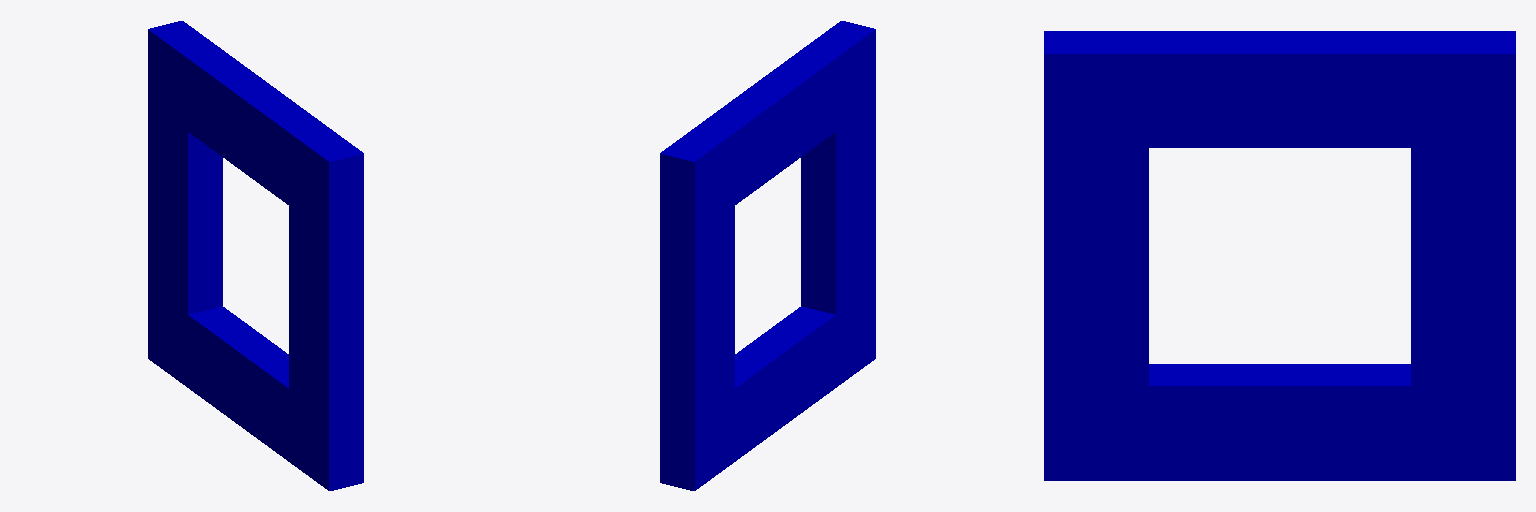
URDF robot description (cube):
<?xml version="1.0"?>
<robot name="cube">

<link name="base_link">

    <inertial>
      <mass value="0.1"/>
      <origin rpy="0 0 0" xyz="0 0 0"/>
      <inertia ixx="1e-3" ixy="0.0" ixz="0.0" iyy="1e-3" iyz="0.0" izz="1e-3"/>
    </inertial>

</link>

<link name="link_1">
    <contact>
        <lateral_friction value="4.0"/>
    </contact>

    <visual>
      <origin rpy="0 0 0" xyz="0 -0.09 0"/>
      <geometry>
        <box size="0.02 0.04 0.18"/>
      </geometry>
      <material name="blue">
        <color rgba="0 0 .8 1"/>
      </material>
    </visual>

    <collision>
      <origin rpy="0 0 0" xyz="0 -0.09 0"/>
      <geometry>
        <box size="0.02 0.04 0.18"/>
      </geometry>
    </collision>

    <inertial>
      <mass value="0.01"/>
      <origin rpy="0 0 0" xyz="0 0 0"/>
      <inertia ixx="1e-3" ixy="0.0" ixz="0.0" iyy="1e-3" iyz="0.0" izz="1e-3"/>
    </inertial>

</link>

<link name="link_2">
    <contact>
        <lateral_friction value="4.0"/>
    </contact>

    <visual>
      <origin rpy="0 0 0" xyz="0 -0.09 0"/>
      <geometry>
        <box size="0.02 0.18 0.04"/>
      </geometry>
      <material name="blue">
        <color rgba="0 0 .8 1"/>
      </material>
    </visual>

    <collision>
      <origin rpy="0 0 0" xyz="0 -0.09 0"/>
      <geometry>
        <box size="0.02 0.18 0.04"/>
      </geometry>
    </collision>

    <inertial>
      <mass value="0.01"/>
      <origin rpy="0 0 0" xyz="0 0 0"/>
      <inertia ixx="1e-3" ixy="0.0" ixz="0.0" iyy="1e-3" iyz="0.0" izz="1e-3"/>
    </inertial>

</link>

<link name="link_3">
    <contact>
        <lateral_friction value="4.0"/>
    </contact>

    <visual>
      <origin rpy="0 0 0" xyz="0 -0.09 0"/>
      <geometry>
        <box size="0.02 0.04 0.18"/>
      </geometry>
      <material name="blue">
        <color rgba="0 0 .8 1"/>
      </material>
    </visual>

    <collision>
      <origin rpy="0 0 0" xyz="0 -0.09 0"/>
      <geometry>
        <box size="0.02 0.04 0.18"/>
      </geometry>
    </collision>

    <inertial>
      <mass value="0.01"/>
      <origin rpy="0 0 0" xyz="0 0 0"/>
      <inertia ixx="1e-3" ixy="0.0" ixz="0.0" iyy="1e-3" iyz="0.0" izz="1e-3"/>
    </inertial>

</link>

<link name="link_4">
    <contact>
        <lateral_friction value="4.0"/>
    </contact>

    <visual>
      <origin rpy="0 0 0" xyz="0 -0.09 0"/>
      <geometry>
        <box size="0.02 0.18 0.04"/>
      </geometry>
      <material name="blue">
        <color rgba="0 0 .8 1"/>
      </material>
    </visual>

    <collision>
      <origin rpy="0 0 0" xyz="0 -0.09 0"/>
      <geometry>
        <box size="0.02 0.18 0.04"/>
      </geometry>
    </collision>

    <inertial>
      <mass value="0.01"/>
      <origin rpy="0 0 0" xyz="0 0 0"/>
      <inertia ixx="1e-3" ixy="0.0" ixz="0.0" iyy="1e-3" iyz="0.0" izz="1e-3"/>
    </inertial>

</link>

  <joint name="joint_Center" type="fixed">
    <origin xyz="0 -0.07 0.0" rpy="0.0 0.0 0.0"/>
    <parent link="base_link"/>
    <child link="link_1"/>
    <axis xyz="0.0 0.0 0.0"/>
    <limit lower="0.0" upper="0.0" effort="0.0" velocity="0.0"/>
  </joint>

  <joint name="joint_1" type="fixed">
    <origin xyz="0.0 0.07 0.07" rpy="0.0 0.0 0.0"/>
    <parent link="link_1"/>
    <child link="link_2"/>
    <axis xyz="0.0 0.0 0.0"/>
    <limit lower="0.0" upper="0.0" effort="0.0" velocity="0.0"/>
  </joint>

  <joint name="joint_2" type="fixed">
    <origin xyz="0.0 0.07 -0.07" rpy="0.0 0.0 0.0"/>
    <parent link="link_2"/>
    <child link="link_3"/>
    <axis xyz="0.0 0.0 0.0"/>
    <limit lower="0.0" upper="0.0" effort="0.0" velocity="0.0"/>
  </joint>

  <joint name="joint_3" type="fixed">
    <origin xyz="0.0 -0.07 -0.07" rpy="0.0 0.0 0.0"/>
    <parent link="link_3"/>
    <child link="link_4"/>
    <axis xyz="0.0 0.0 0.0"/>
    <limit lower="0.0" upper="0.0" effort="0.0" velocity="0.0"/>
  </joint>

</robot>

--- Render facts (derived) ---
Views: 3 orthographic renders of the robot side by side, from view 1: azimuth 30°, elevation 25°; view 2: azimuth 150°, elevation 25°; view 3: azimuth 270°, elevation 25°.
Model cube with 5 links and 4 joints (4 fixed), rooted at base_link, posed every joint at zero.
Links seen in each view (by area): view 1: link_1, link_3, link_2, link_4; view 2: link_3, link_1, link_2, link_4; view 3: link_2, link_4, link_1, link_3.
Link boxes in pixels (box(x1,y1,x2,y2)): link_1: box(289, 124, 363, 490); link_3: box(148, 21, 222, 387); link_2: box(148, 25, 363, 234); link_4: box(148, 287, 363, 490); link_3: box(660, 124, 734, 490); link_1: box(801, 21, 875, 384); link_2: box(660, 32, 872, 234); link_4: box(660, 289, 875, 490); link_2: box(1044, 31, 1515, 147); link_4: box(1044, 364, 1515, 480); link_1: box(1044, 31, 1148, 480); link_3: box(1411, 31, 1515, 480).
Size in the robot's own frame: 0.02 by 0.18 by 0.18 metres.
Geometry: primitives only (box / cylinder / sphere), no mesh files.